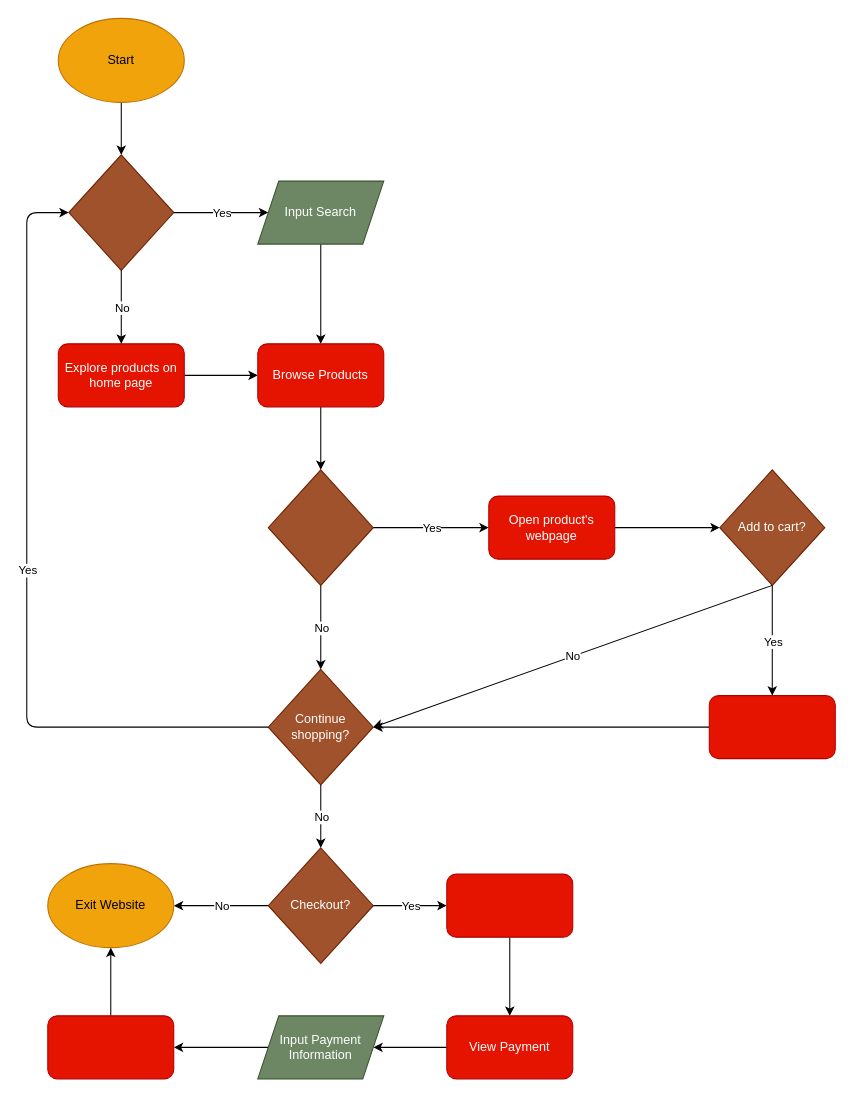
The diagram is 854 pixels wide and 1097 high, and some of its shapes have lost their labels. Each missing label, with the centre of its shape:
Added to cart confirmation: (x=771, y=727)
Order Confirmation: (x=110, y=1047)
Search for a product?: (x=121, y=212)
View Cart: (x=509, y=905)
View specific product?: (x=320, y=527)
